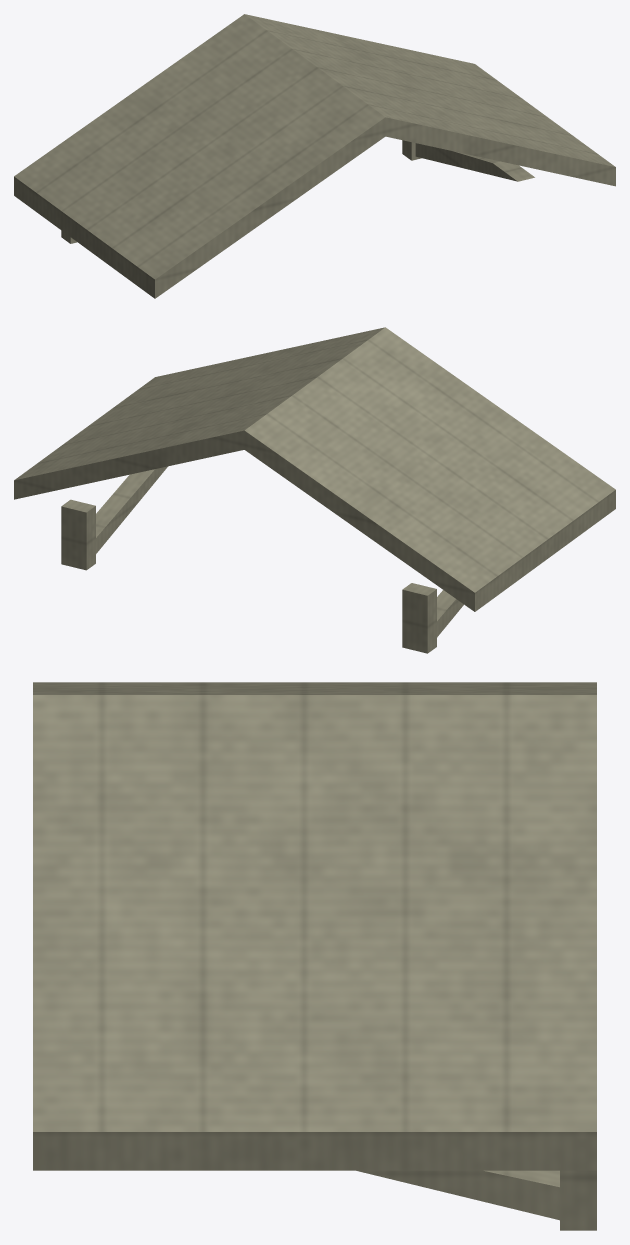
Rendered from residential-gabled-entry-canopy.lod1.glb.
3 views of the same model, one above another, from view 1: azimuth 30°, elevation 25°; view 2: azimuth 150°, elevation 25°; view 3: azimuth 270°, elevation 25° (orthographic). The views are drawn at different scales.
Parts seen in each view (by area): view 1: residential-gabled-entry-canopy; view 2: residential-gabled-entry-canopy; view 3: residential-gabled-entry-canopy.
Part boxes in pixels (x1,y1,x2,y2): residential-gabled-entry-canopy: [14, 14, 615, 298]; residential-gabled-entry-canopy: [14, 327, 615, 653]; residential-gabled-entry-canopy: [33, 682, 596, 1230].
Size of the model in its own units: 2 by 0.74 by 1.06.
1 material, 1 textured.
